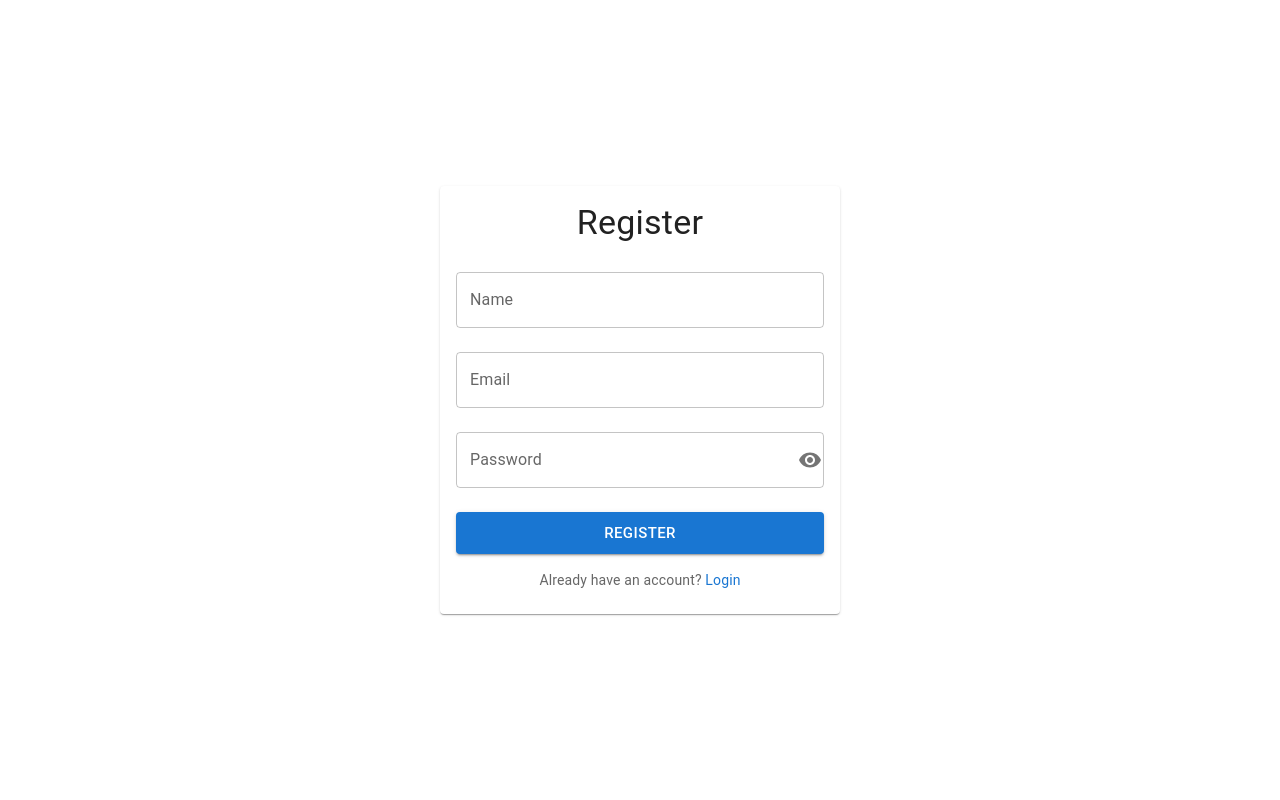
Test: RegisterForm › should show validation error for invalid email format
This screenshot has width=1280, height=800.
// Type invalid email
Step 1. Type "Test User" into the field labelled "Name" → (640, 300), box [456,272,824,328]
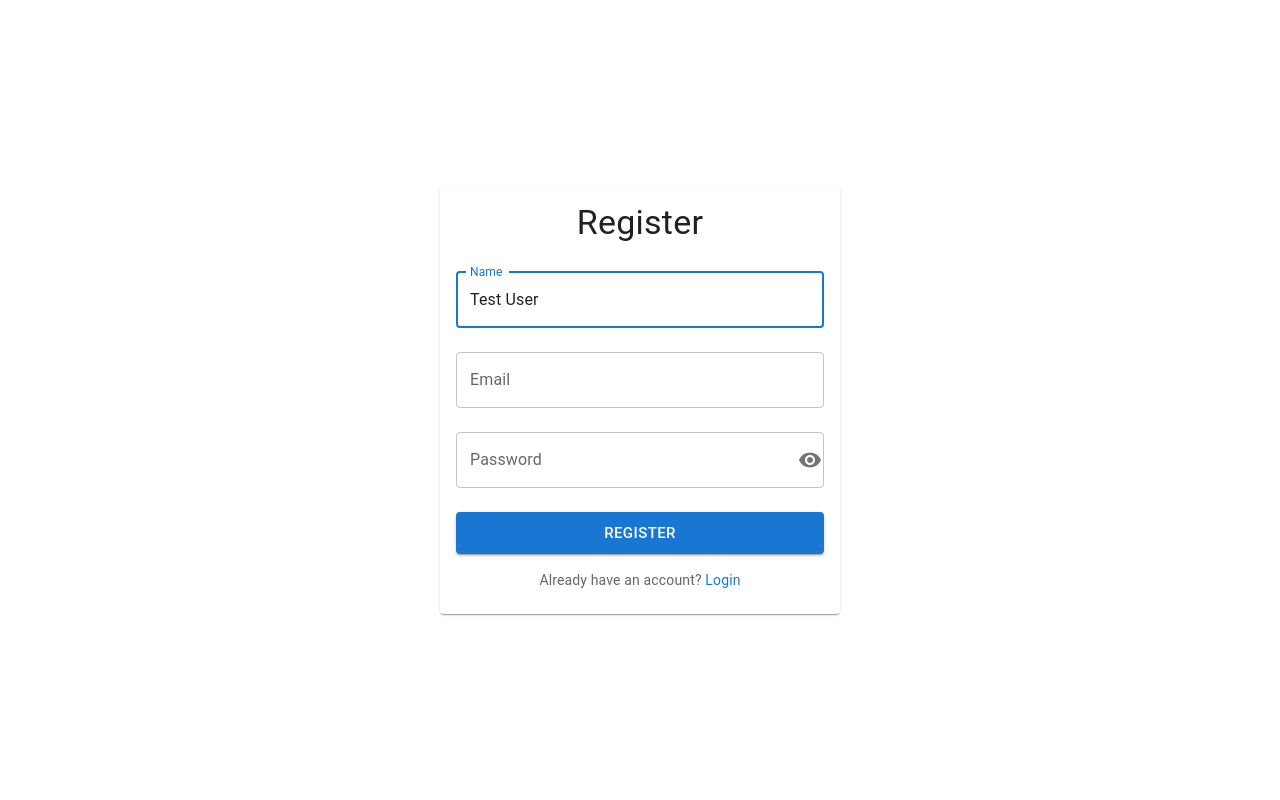
Step 2. Type "invalid-email" into the field labelled "Email" → (640, 380), box [456,352,824,408]
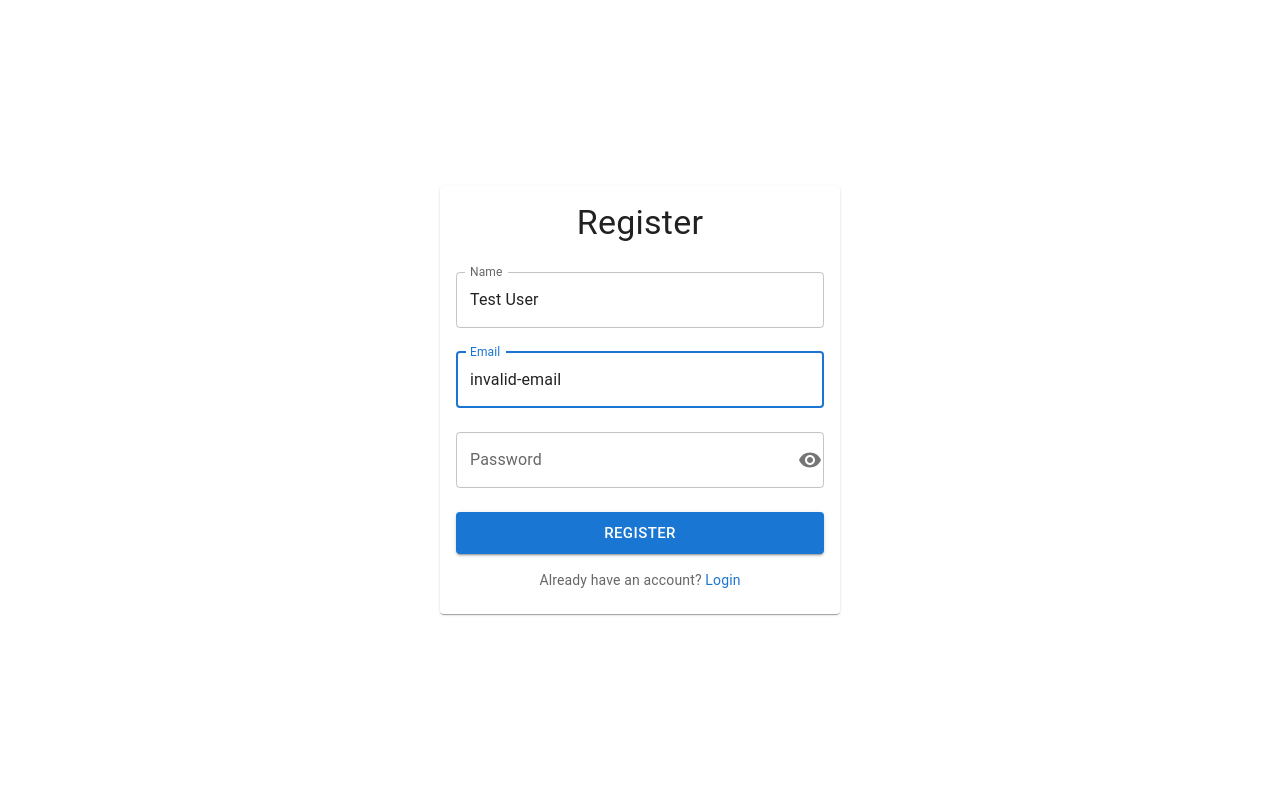
Step 3. Type "password123" into the password field labelled "Password" → (623, 460), box [456,432,790,488]
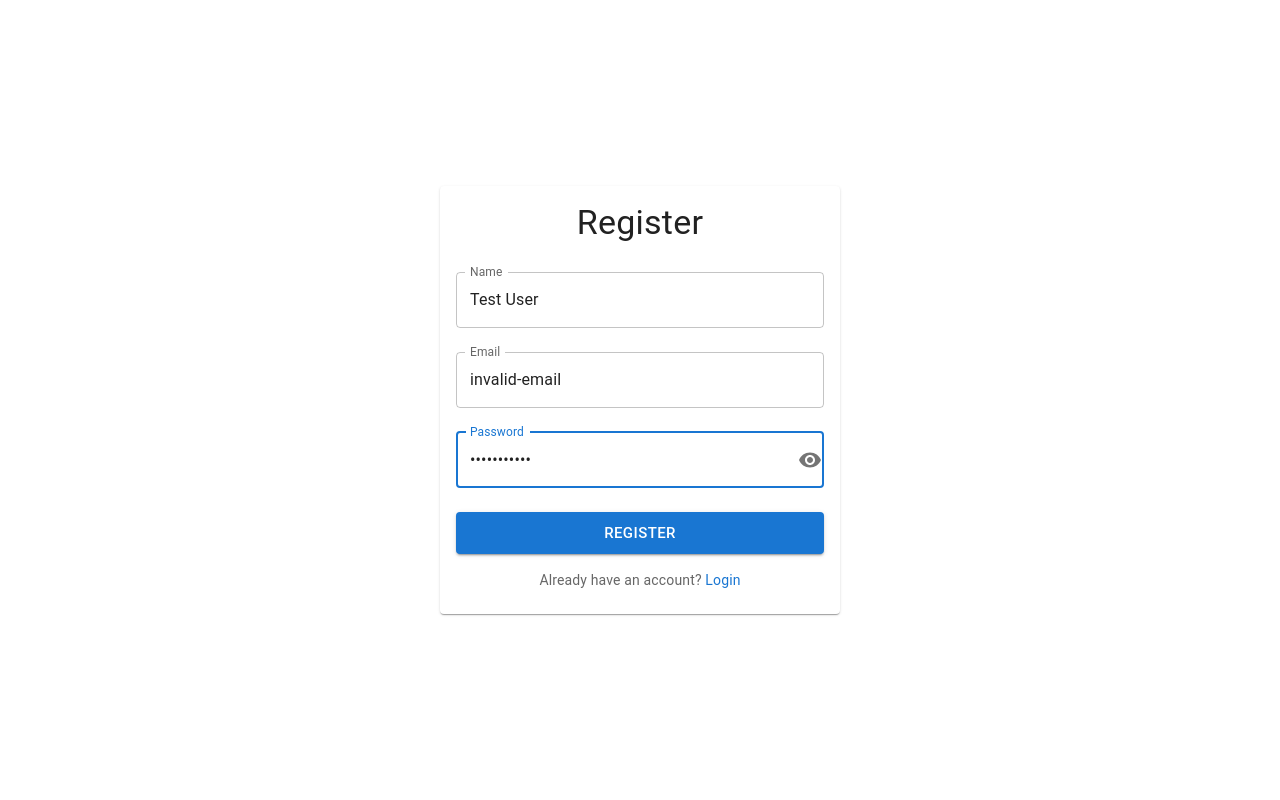
Step 4. Click the button "Register" → (640, 533), box [456,512,824,554]
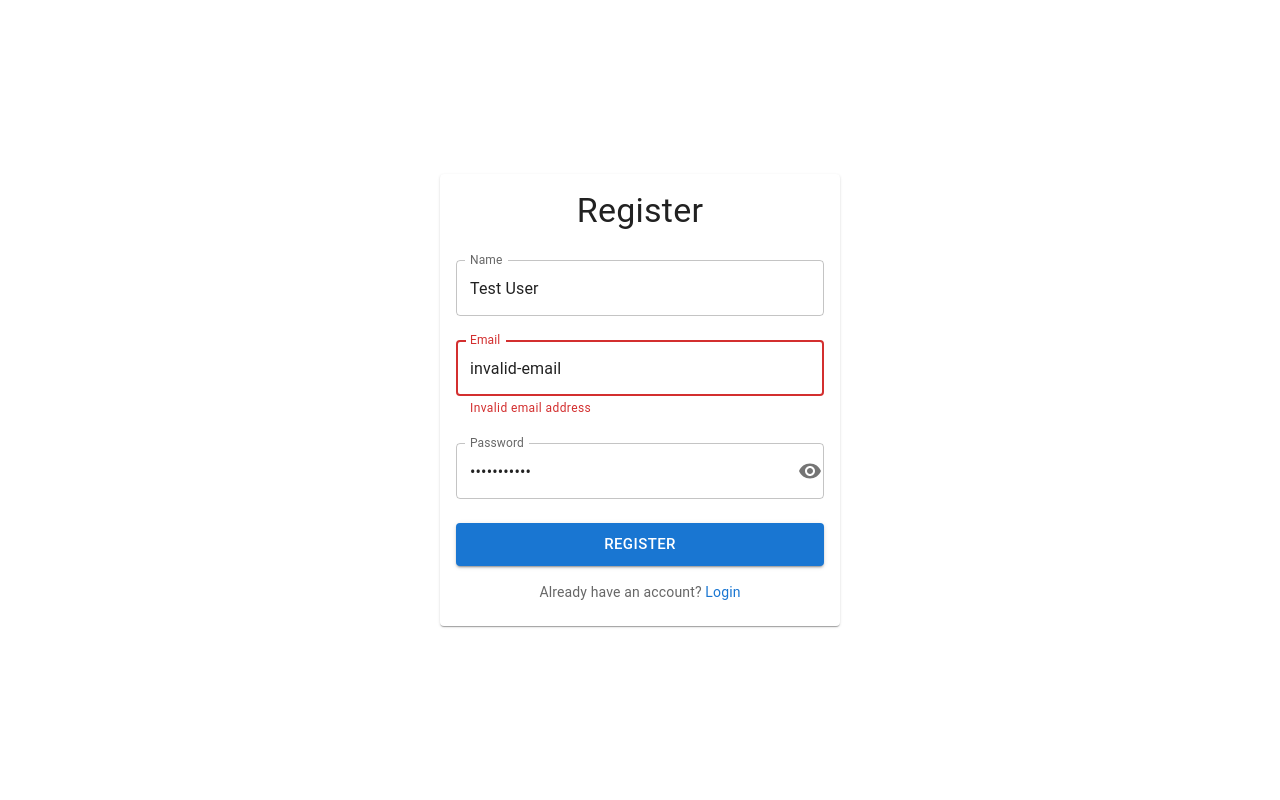
Check: the text "Invalid email address" is shown, box [470,401,591,415]
